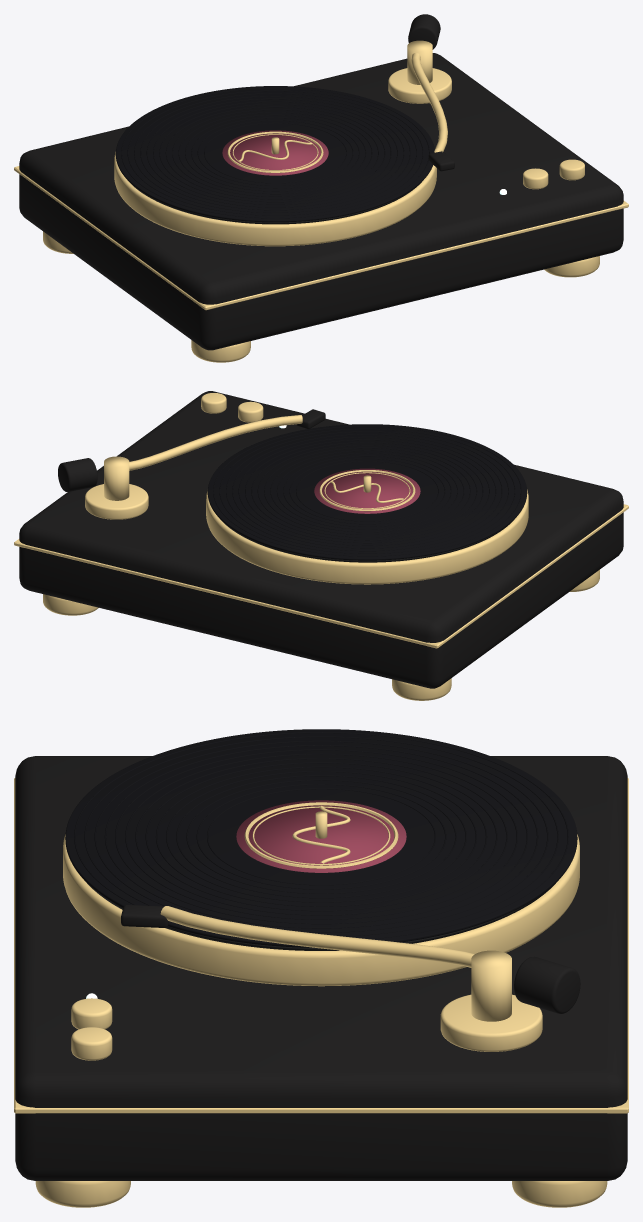
File: turntable.glb
3 renders of one model, top to bottom at view 1: azimuth 30°, elevation 25°; view 2: azimuth 150°, elevation 25°; view 3: azimuth 270°, elevation 25°, orthographic. The views are drawn at different scales.
Parts seen in each view (by area): view 1: Plinth, Record, Platter, Label, Pinstripe, ArmBase, ArmTube, Torus, Torus.001, Cylinder, Cylinder.004, Torus.002 (+14 smaller); view 2: Plinth, Record, Platter, Label, Pinstripe, ArmTube, ArmBase, Counterweight, Cylinder.004, Torus, Torus.001, Cylinder.001 (+16 smaller); view 3: Plinth, Record, Platter, Label, Pinstripe, ArmTube, ArmBase, Counterweight, Cylinder.004, Cylinder.002, Cylinder.003, Torus.003 (+19 smaller).
Part boxes in pixels (x1=…): Plinth: x1=19, y1=53, x2=623, y2=350; Record: x1=115, y1=86, x2=434, y2=222; Platter: x1=114, y1=151, x2=436, y2=246; Label: x1=222, y1=130, x2=328, y2=175; Pinstripe: x1=14, y1=166, x2=628, y2=310; ArmBase: x1=388, y1=68, x2=451, y2=103; ArmTube: x1=411, y1=53, x2=447, y2=152; Torus: x1=121, y1=87, x2=429, y2=218; Torus.001: x1=127, y1=90, x2=423, y2=215; Cylinder: x1=191, y1=340, x2=250, y2=362; Cylinder.004: x1=407, y1=40, x2=432, y2=84; Torus.002: x1=134, y1=93, x2=416, y2=212; Plinth: x1=19, y1=391, x2=623, y2=688; Record: x1=207, y1=424, x2=527, y2=560; Platter: x1=206, y1=489, x2=528, y2=584; Label: x1=314, y1=468, x2=420, y2=513; Pinstripe: x1=14, y1=504, x2=628, y2=648; ArmTube: x1=129, y1=415, x2=302, y2=470; ArmBase: x1=85, y1=484, x2=148, y2=519; Counterweight: x1=58, y1=458, x2=97, y2=491; Cylinder.004: x1=104, y1=456, x2=129, y2=500; Torus: x1=213, y1=426, x2=521, y2=556; Torus.001: x1=219, y1=428, x2=515, y2=553; Cylinder.001: x1=392, y1=678, x2=451, y2=700; Plinth: x1=15, y1=756, x2=627, y2=1180; Record: x1=65, y1=729, x2=577, y2=947; Platter: x1=63, y1=834, x2=579, y2=986; Label: x1=236, y1=800, x2=406, y2=872; Pinstripe: x1=14, y1=778, x2=628, y2=1113; ArmTube: x1=160, y1=906, x2=474, y2=967; ArmBase: x1=440, y1=994, x2=542, y2=1051; Counterweight: x1=514, y1=956, x2=580, y2=1013; Cylinder.004: x1=471, y1=950, x2=511, y2=1021; Cylinder.002: x1=35, y1=1181, x2=130, y2=1207; Cylinder.003: x1=512, y1=1181, x2=607, y2=1207; Torus.003: x1=104, y1=745, x2=538, y2=928.
Bounding box in the file's own units: 0.4615 × 0.146 × 0.3615.
3 materials, 3 textured.
